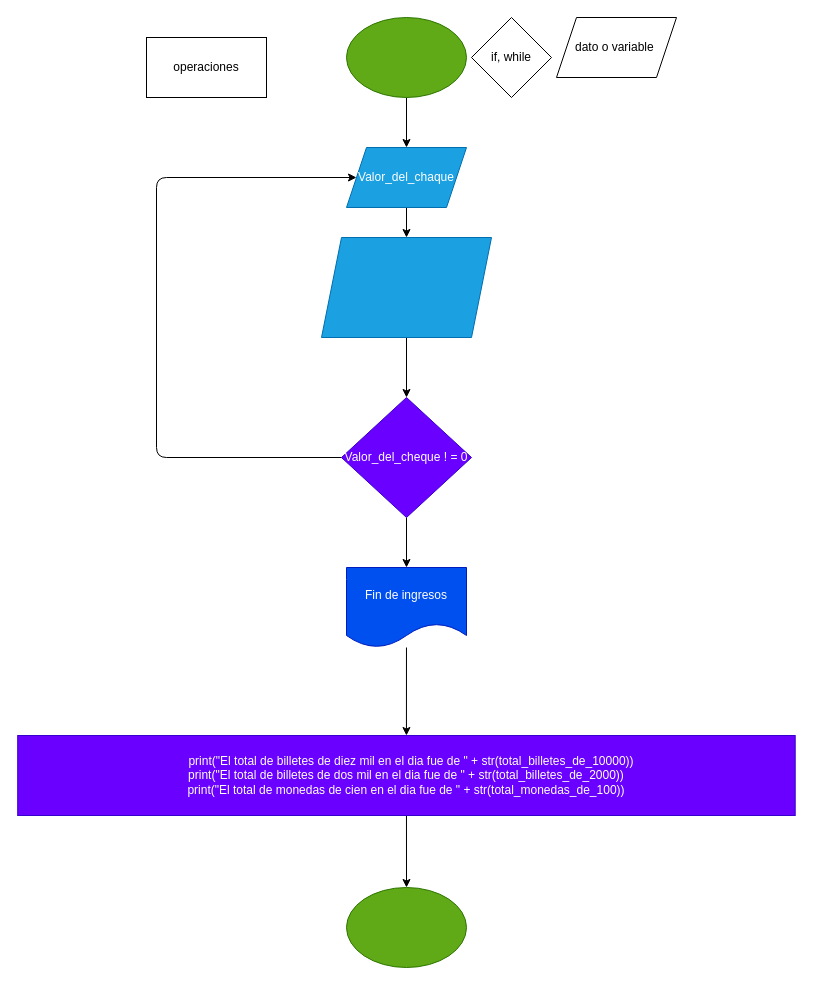
This 813x985 diagram has some shape labels left out. The box of each missing label's shape, as (x1, y1, x2, y2) in pixels:
Fin: (346, 886, 466, 968)
Inicio: (346, 16, 466, 98)
total_monedas_de_100=0 total_billetes_de_10000=0 total_billetes_de_2000=0: (320, 236, 492, 338)
